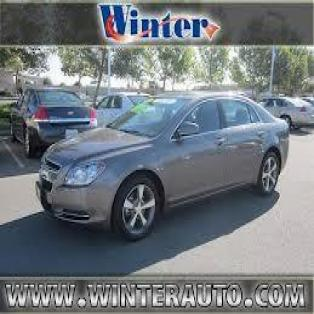Auto: (32, 84, 292, 238)
